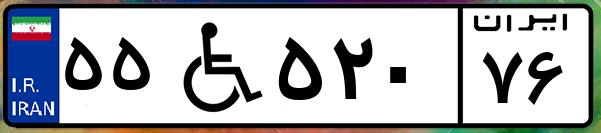0: (385, 28, 445, 110)
2: (330, 28, 385, 110)
5: (270, 28, 330, 110), (57, 26, 110, 100), (110, 28, 158, 98)
6: (525, 38, 570, 115)
7: (475, 38, 525, 113)
ژ (معلولین و جانبازان): (158, 12, 270, 120)
